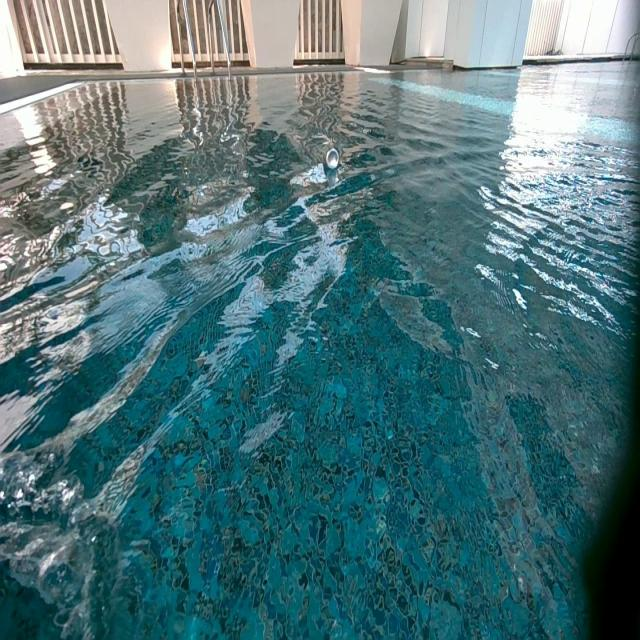Cans: (324, 144, 339, 171)
